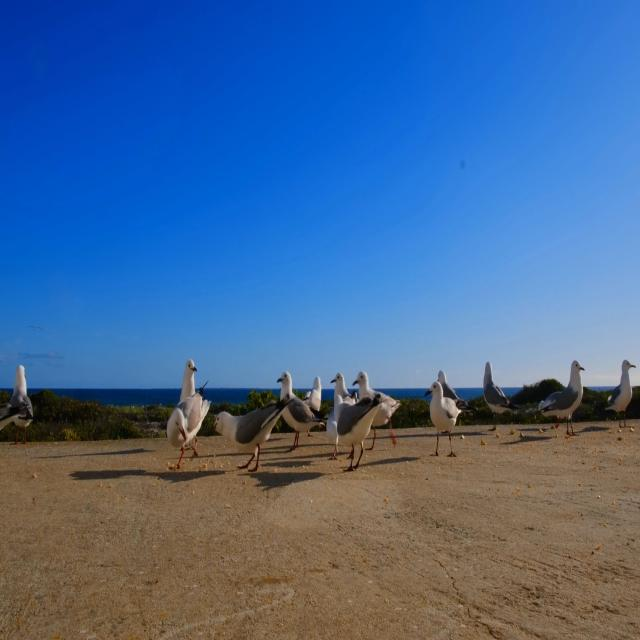bird: (211, 396, 299, 472), (330, 375, 382, 483), (532, 342, 591, 434), (352, 364, 407, 460), (158, 385, 212, 468), (276, 366, 324, 459), (422, 378, 469, 458), (1, 364, 42, 454), (480, 354, 517, 444), (606, 349, 637, 424)
